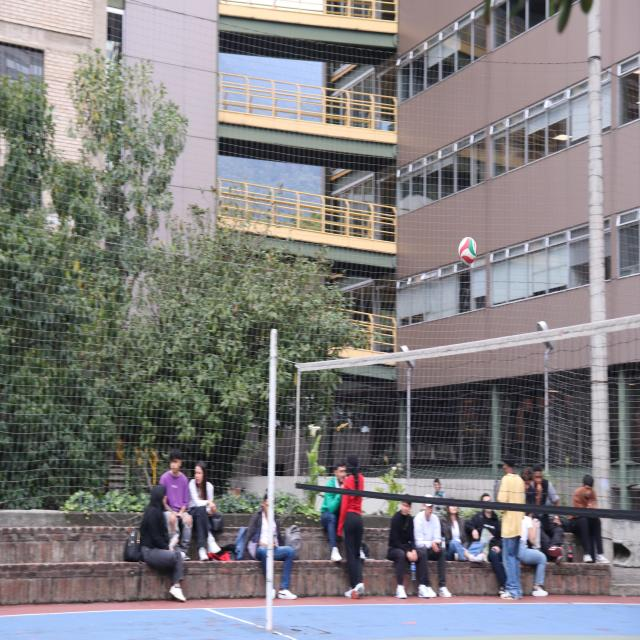volleyball: (458, 237, 477, 266)
